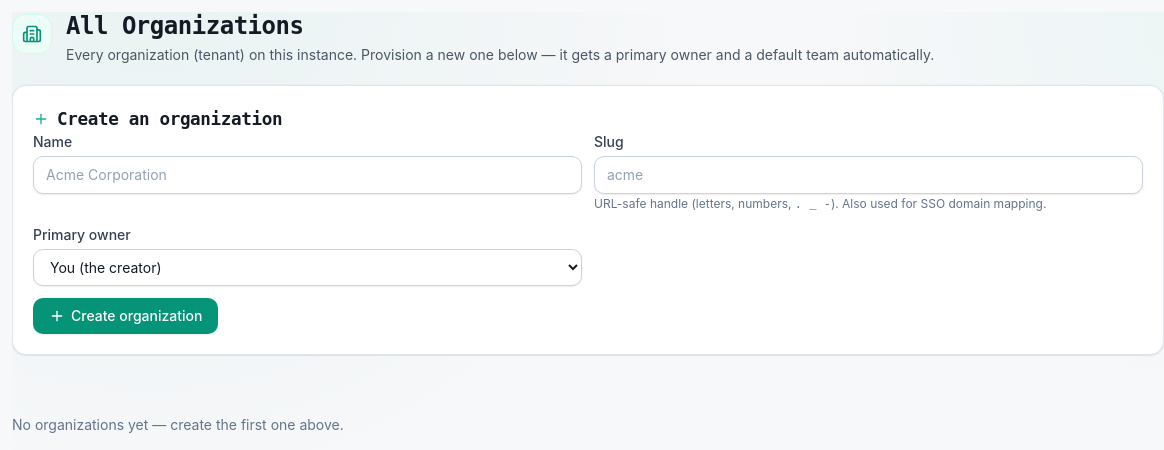
AllOrganizationsPage › creates an organization and reloads the list
Expected: the text "No organizations yet — create the first one above." is shown, [12,416,344,433]
Type "Widget Co" into the field with placeholder "Acme Corporation".
click(308, 175); type("Widget Co")  # box [33,156,582,194]
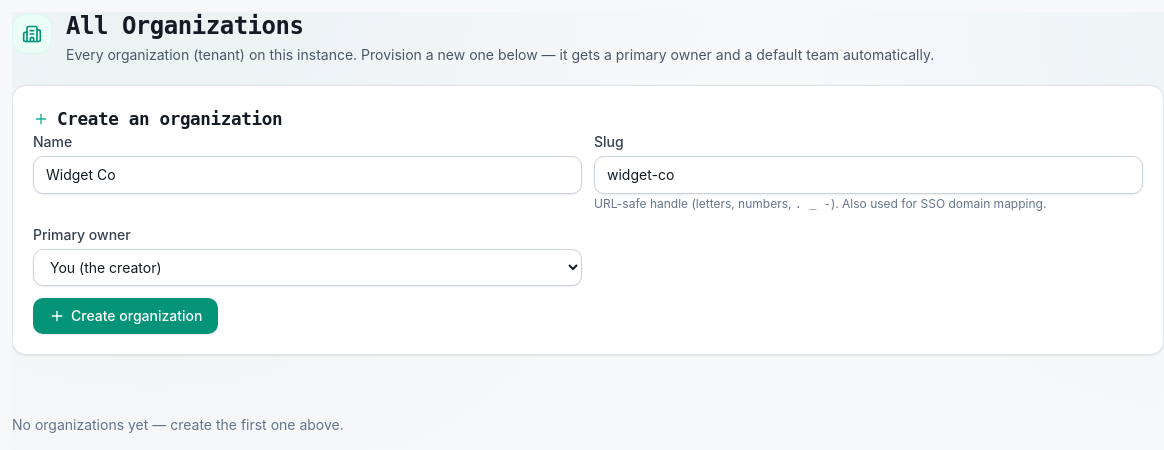
Click the button "Create organization".
click(126, 316)  # box [33,298,218,334]
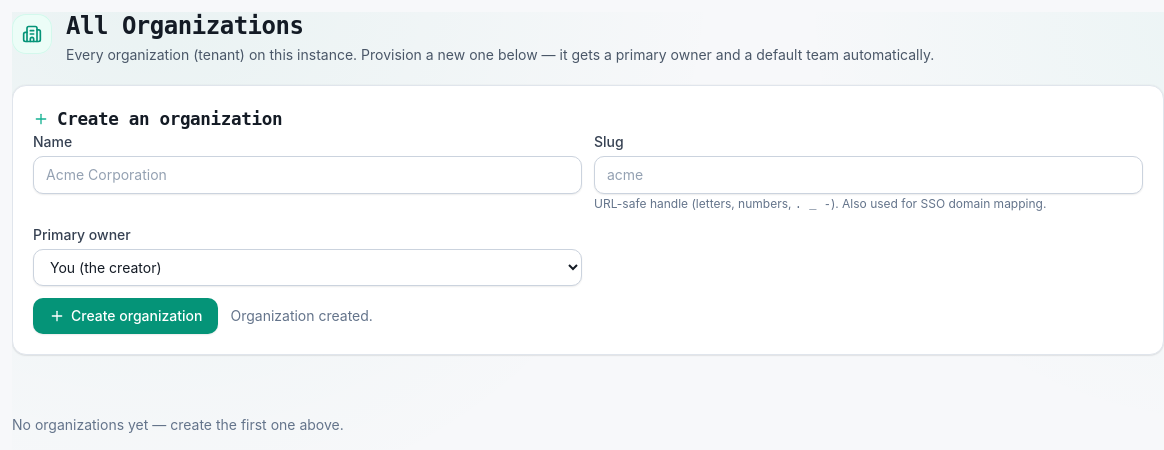
Expected: the text "Organization created." is shown, [230,306,373,326]
